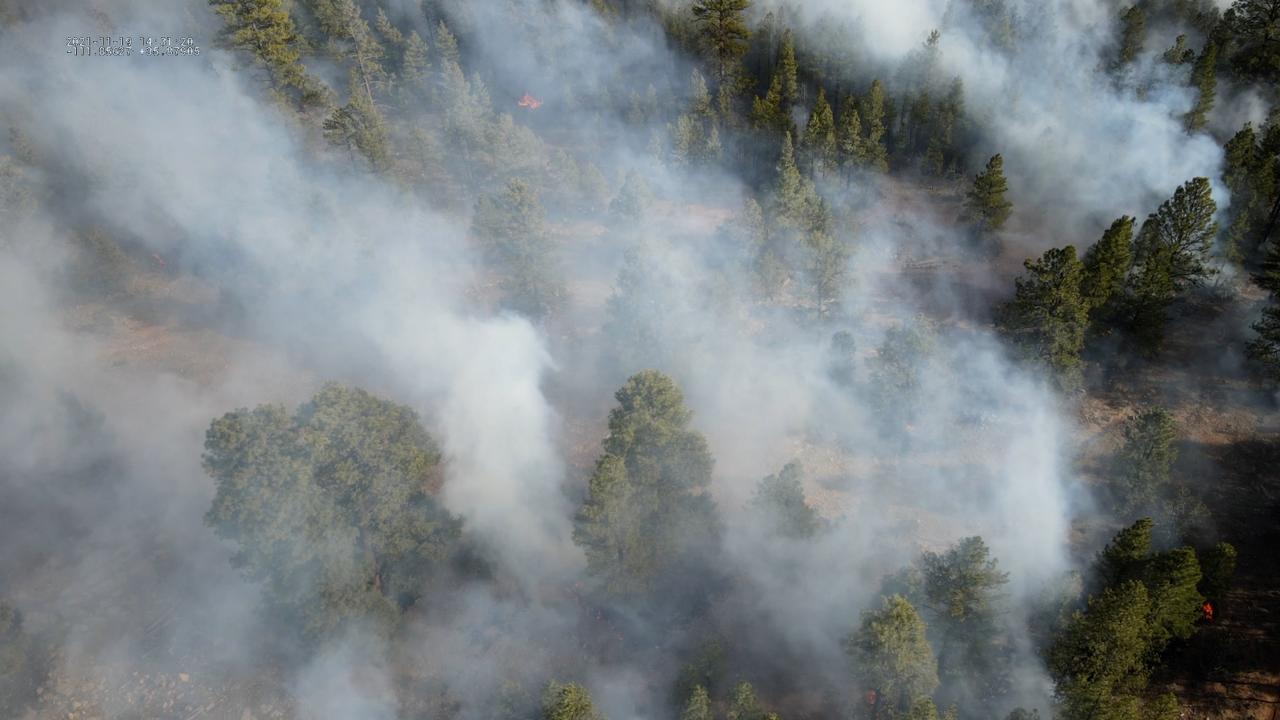fire: (516, 92, 549, 108), (1201, 602, 1214, 622)
smoke: (0, 0, 1280, 720)
